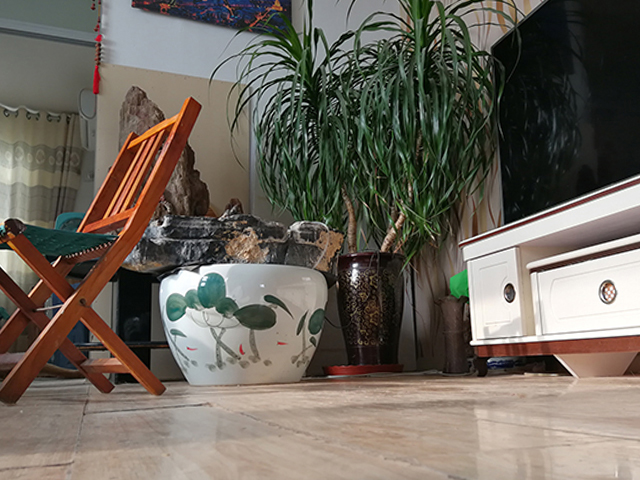cabinet: (455, 171, 640, 379)
stool: (1, 94, 204, 406)
